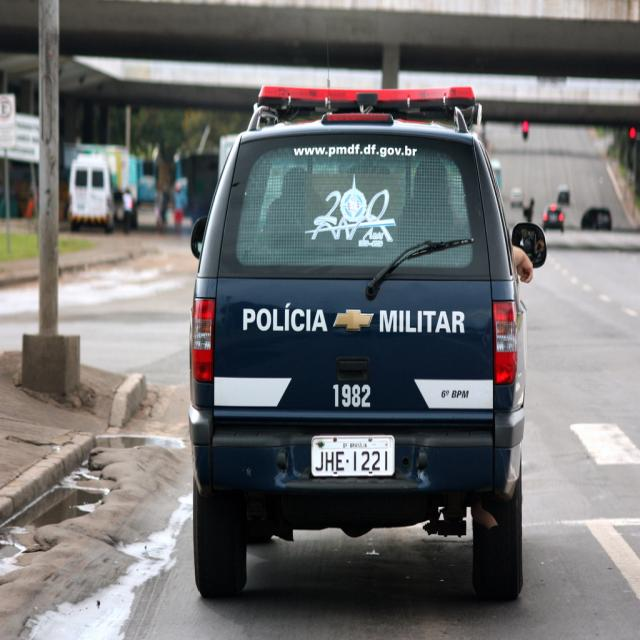car: (579, 206, 611, 230), (543, 203, 563, 230), (507, 184, 527, 205)
